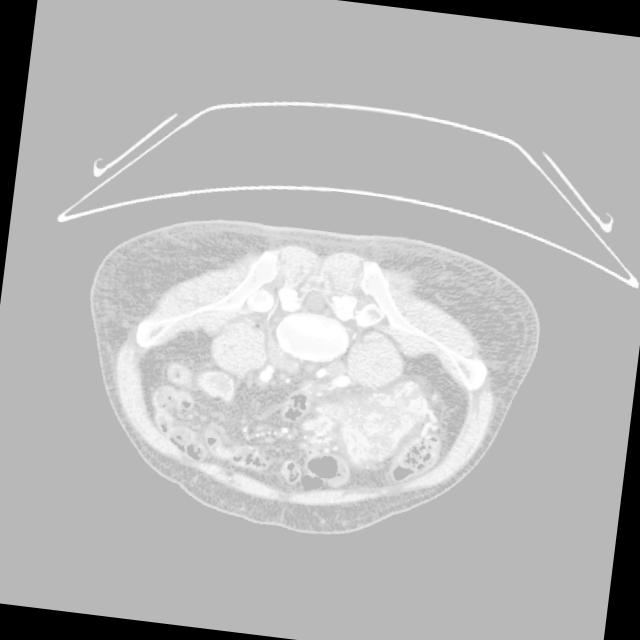TUMOR: (123, 290, 476, 529)
